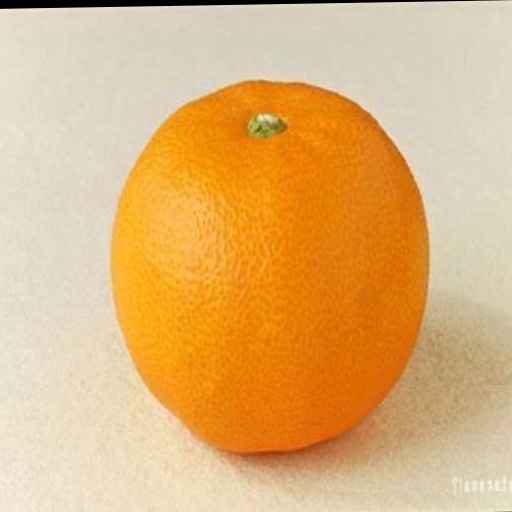fruit: (111, 81, 427, 451)
